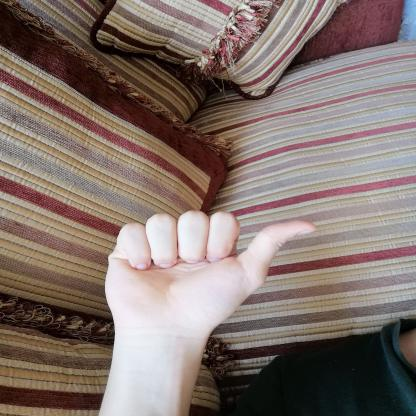DAD: (88, 204, 328, 348)
